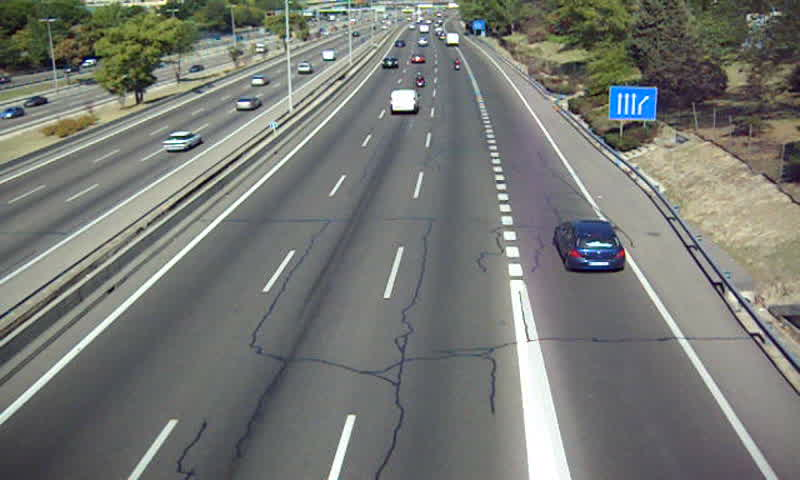car: (555, 218, 624, 273), (380, 57, 397, 70)
motorcycle: (413, 70, 425, 91)
van: (388, 90, 417, 115)
